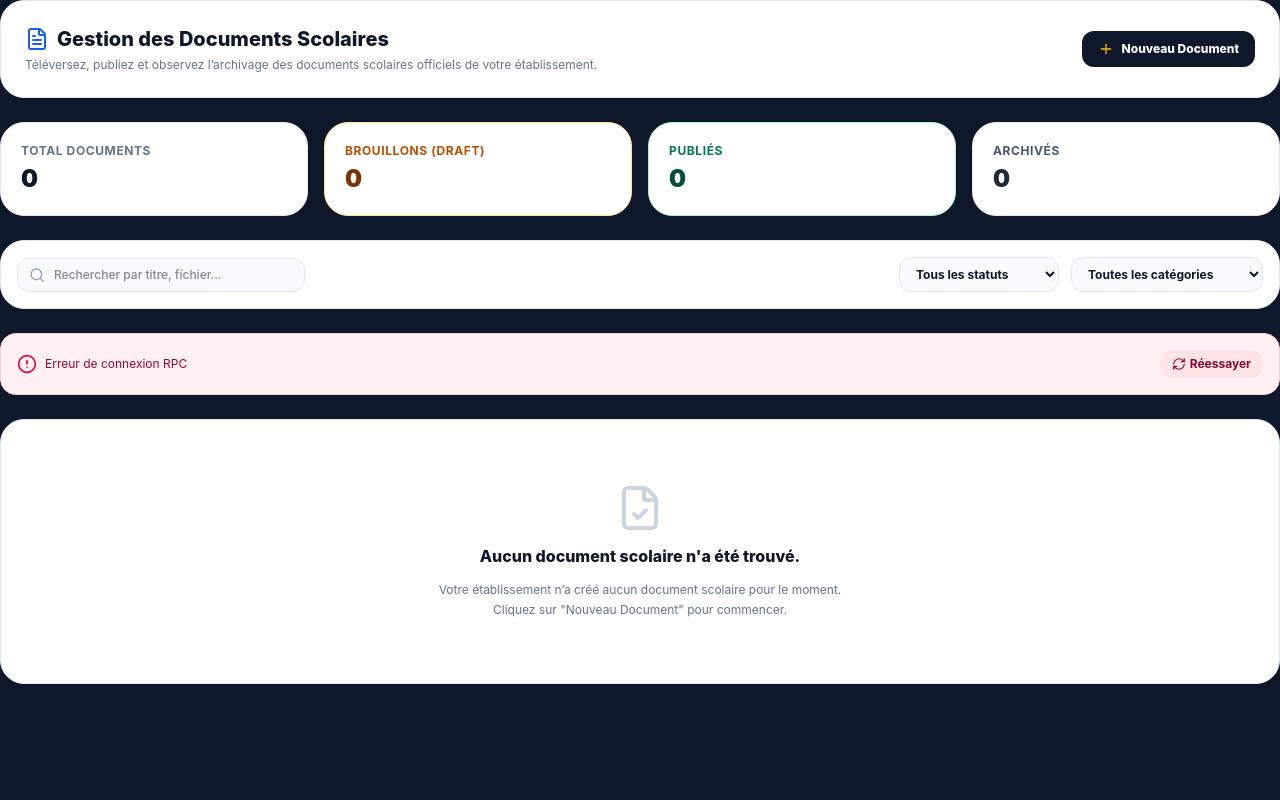
Scenario: AdminSchoolDocumentsModule › 9. gère une erreur et propose un bouton de réessai
Expected: the text "Erreur de connexion RPC" is shown, [45,356,187,372]
Click the button "Réessayer" at (1211, 364), box [1160,350,1263,378]
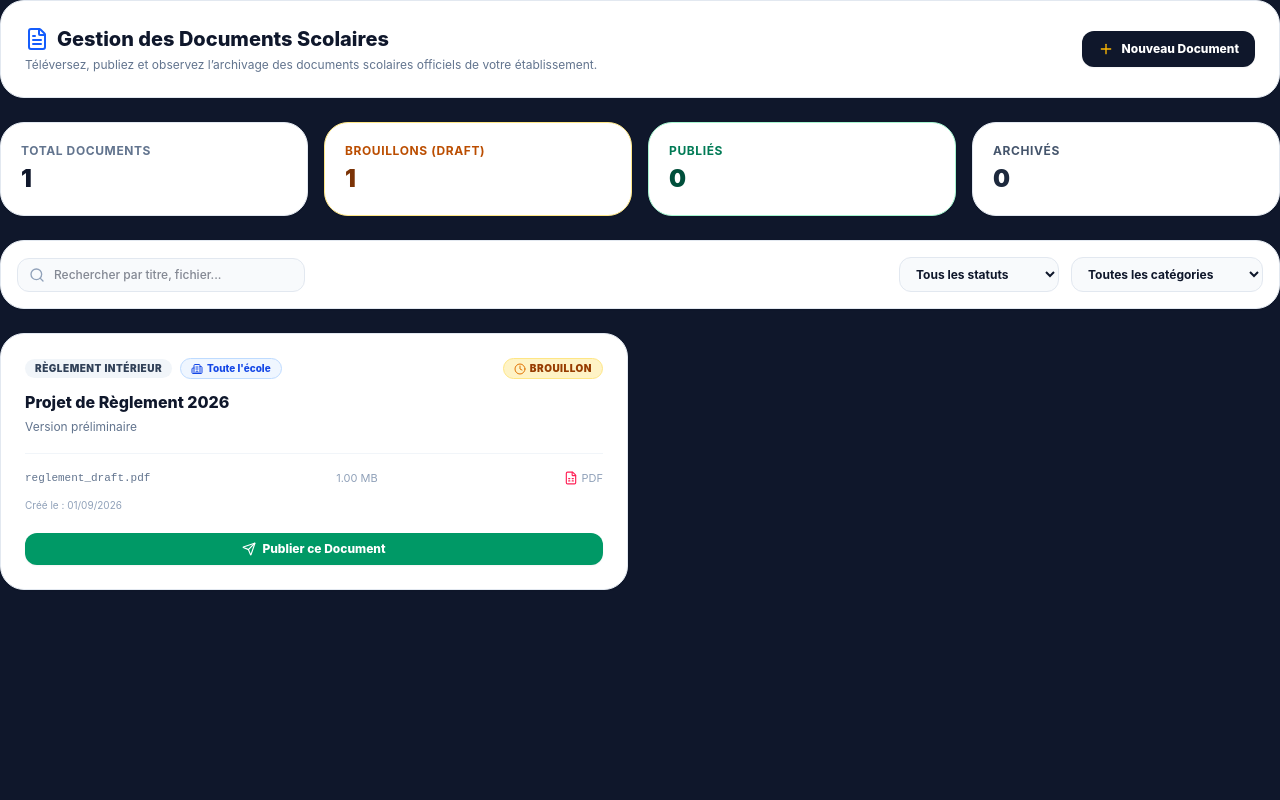
Result: the heading "Projet de Règlement 2026" is shown at [25,392,229,412]
